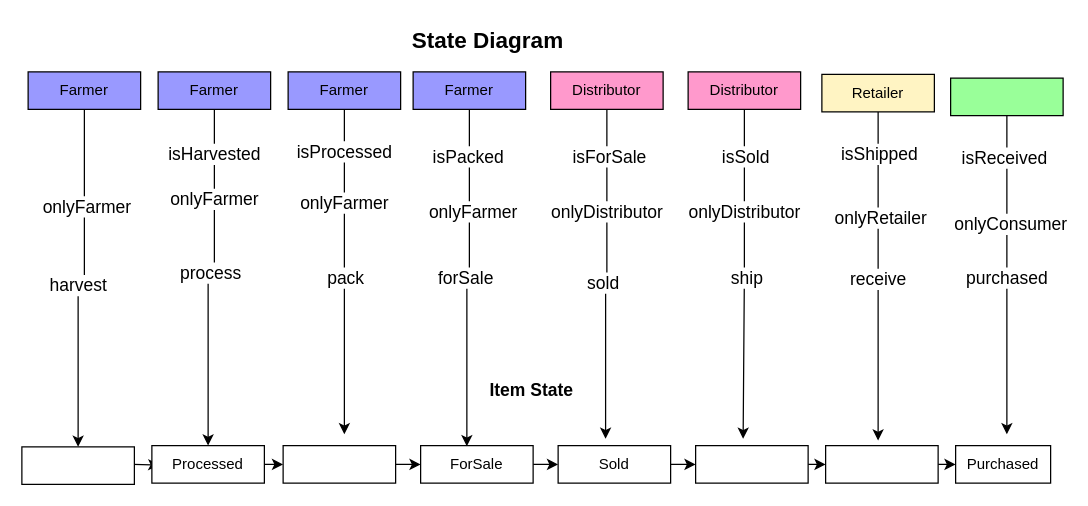
The diagram is 1088 pixels wide and 506 high, and some of its shapes have lost their labels. Here are the shapes that lost their labels. From the top down, the centre of each, then its label:
At point 1006,96: "Consumer".
At point 77,465: "Harvested".
At point 339,463: "Packed".
At point 751,463: "Shipped".
At point 881,463: "Received".
